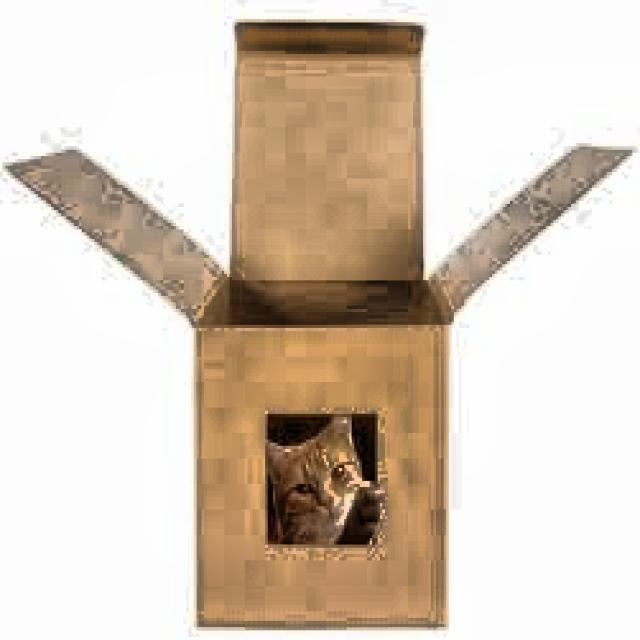cardboard: (2, 15, 635, 630)
